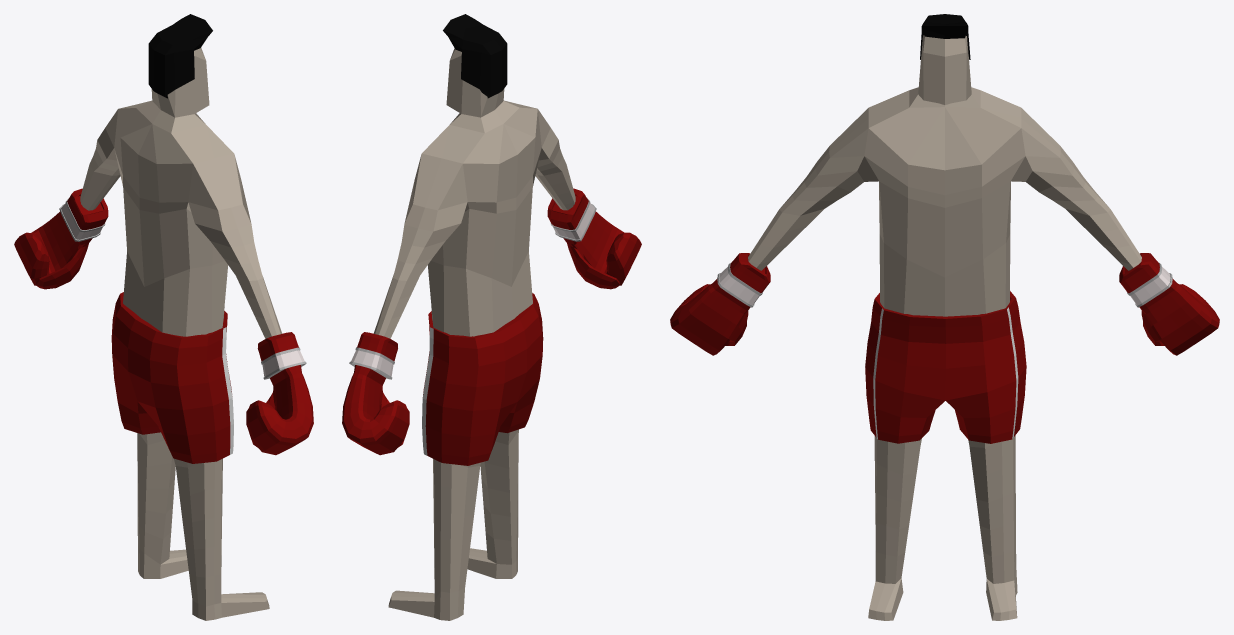
Rendered from boxercomplete.fbx.
3 views of the same model, side by side, from view 1: azimuth 30°, elevation 25°; view 2: azimuth 150°, elevation 25°; view 3: azimuth 270°, elevation 25° (orthographic).
Parts seen in each view (by area): view 1: Cube.001, Cube.002; view 2: Cube.001, Cube.002; view 3: Cube.001, Cube.002.
Boxes of the visible parts, <box> form: Cube.001: <box>80,14,281,620</box>; Cube.002: <box>14,188,313,455</box>; Cube.001: <box>373,14,575,620</box>; Cube.002: <box>342,188,641,455</box>; Cube.001: <box>748,14,1141,620</box>; Cube.002: <box>670,253,1219,355</box>.
Bounding box in the file's own units: 146 × 727 × 625.
